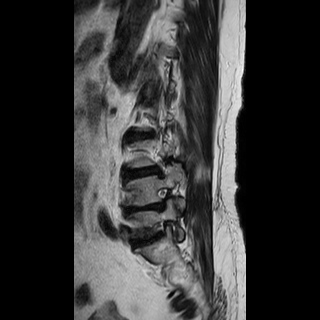LFS1: (149, 183, 180, 213)
